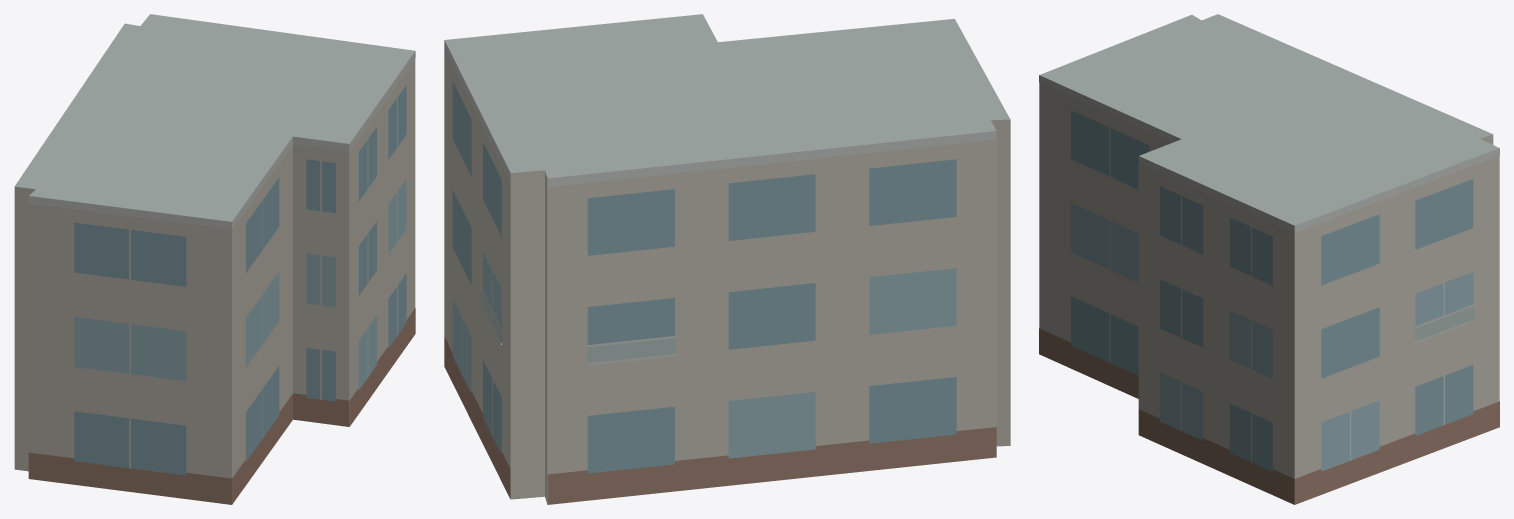
The model's file is survey-upis-32519273.glb.
The picture shows the model from 3 angles, left to right: view 1: azimuth 30°, elevation 25°; view 2: azimuth 150°, elevation 25°; view 3: azimuth 270°, elevation 25°; orthographic projection. The views are drawn at different scales.
Visible parts, largest first — view 1: survey-upis-32519273.tmp; view 2: survey-upis-32519273.tmp; view 3: survey-upis-32519273.tmp.
Boxes of the visible parts, x1,y1,x2,y2 form: survey-upis-32519273.tmp: [14, 14, 415, 504]; survey-upis-32519273.tmp: [444, 14, 1010, 504]; survey-upis-32519273.tmp: [1039, 14, 1499, 504].
Size of the model in its own units: 14.89 by 9.15 by 13.69.
